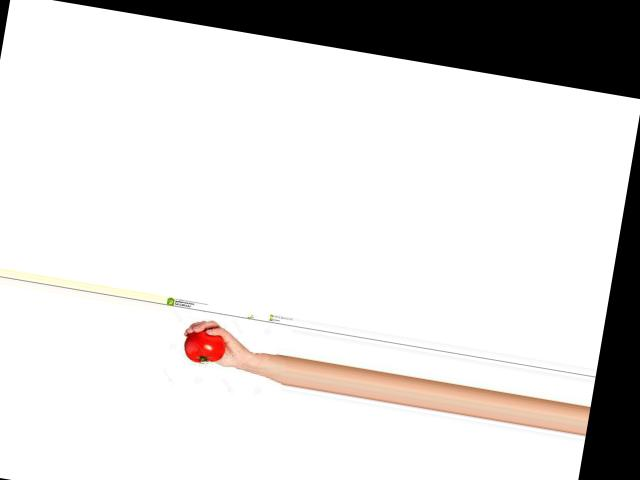tomato: (182, 326, 229, 366)
